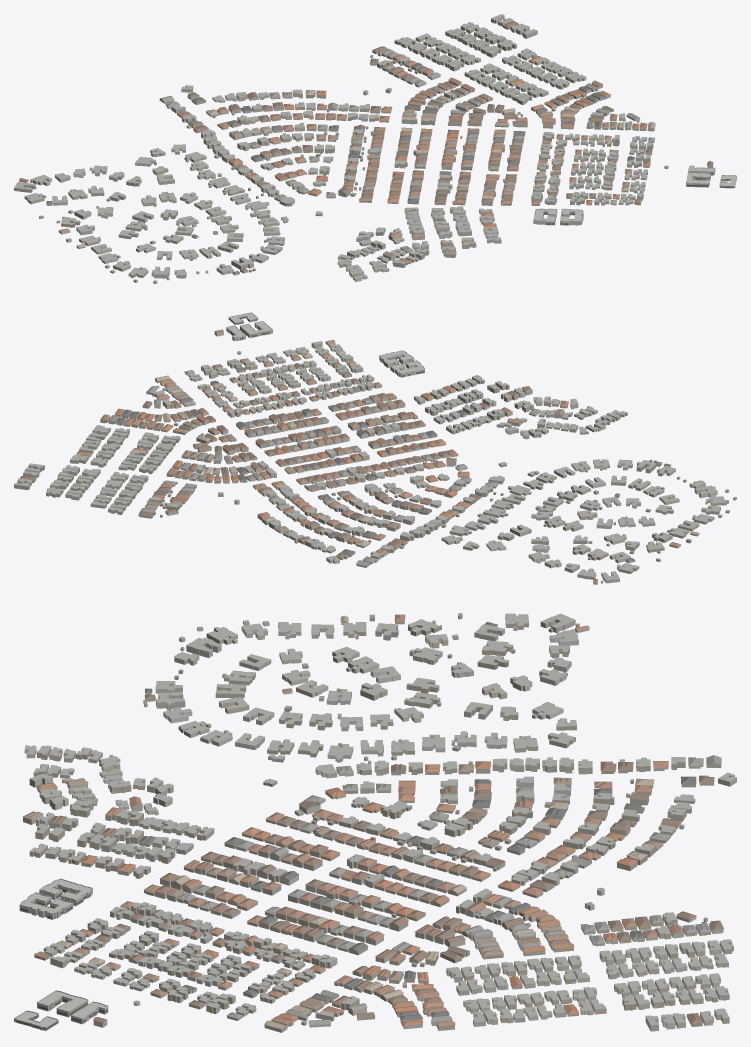
The model's file is buildings_r2_c4.glb.
The picture shows the model from 3 angles, top to bottom: view 1: azimuth 30°, elevation 25°; view 2: azimuth 150°, elevation 25°; view 3: azimuth 270°, elevation 25°; orthographic projection. The views are drawn at different scales.
Parts seen in each view (by area): view 1: buildings_r2_c4; view 2: buildings_r2_c4; view 3: buildings_r2_c4.
Part boxes in pixels (x1,y1,x2,y2): buildings_r2_c4: [14, 14, 736, 283]; buildings_r2_c4: [14, 312, 736, 584]; buildings_r2_c4: [14, 613, 736, 1032].
Size of the model in its own units: 1124 by 27.37 by 817.
